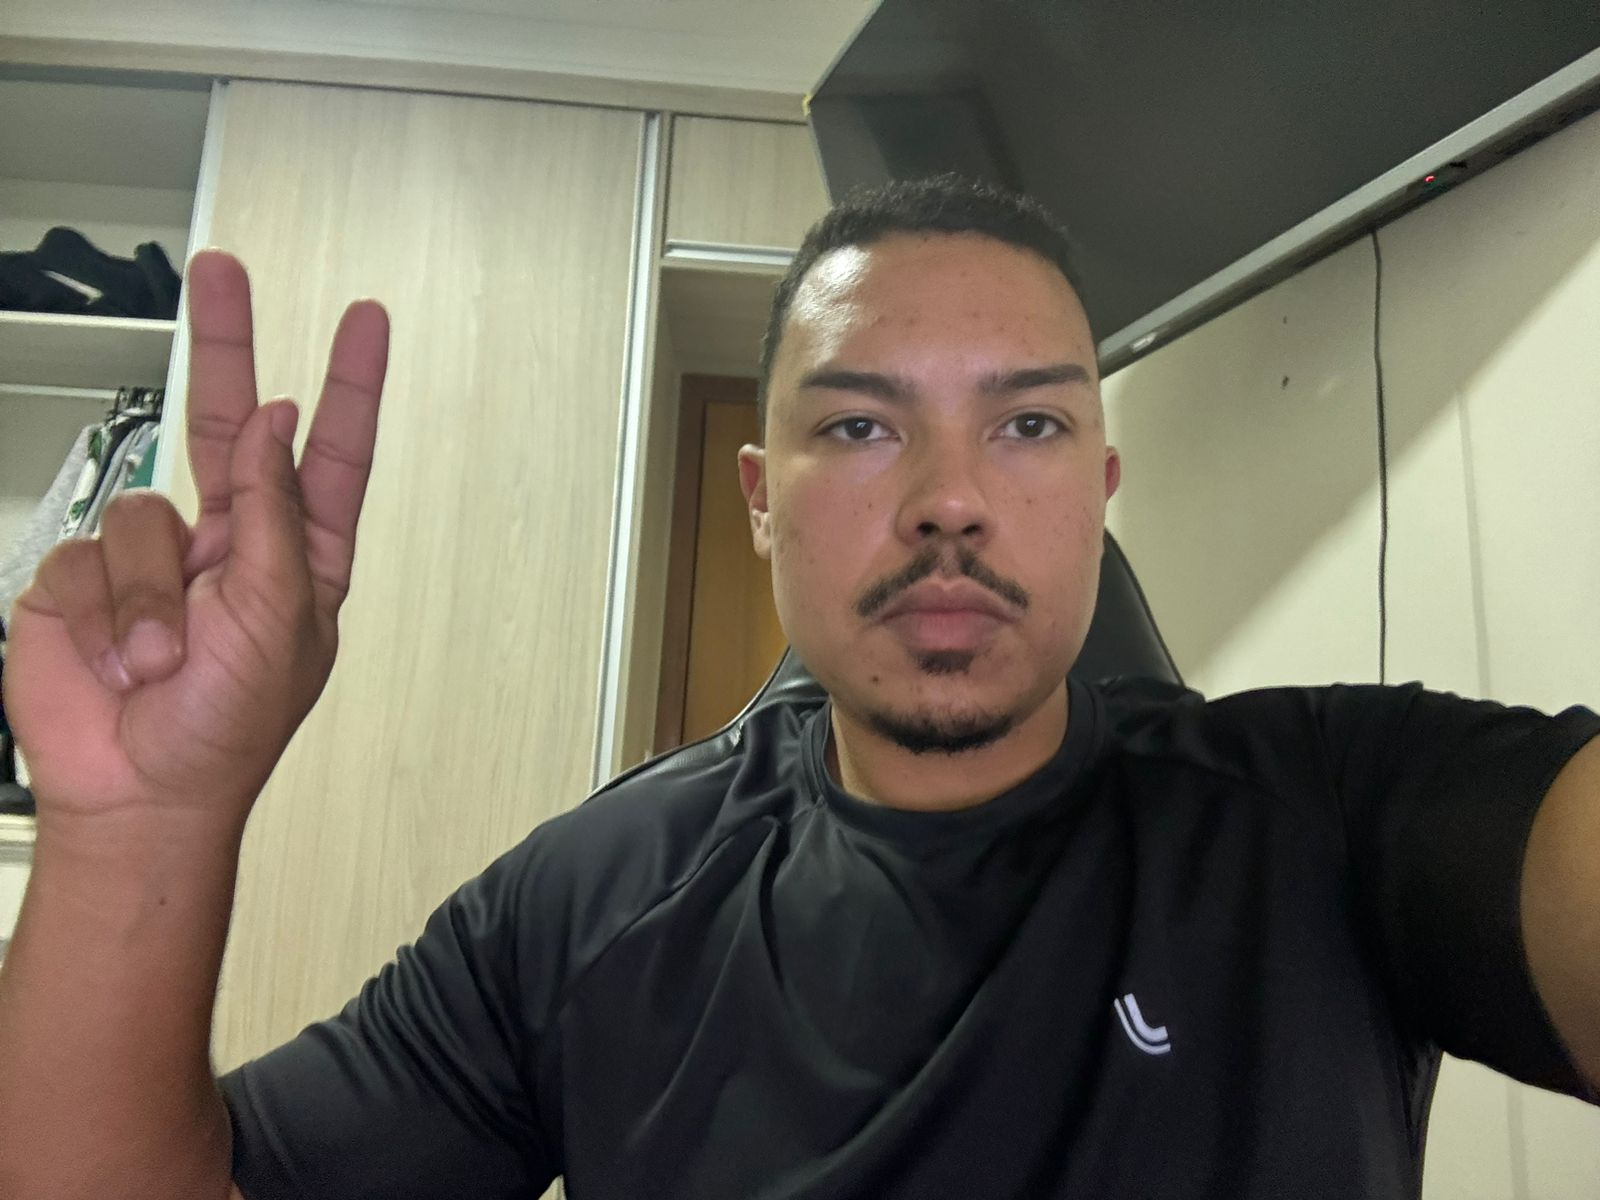k: (5, 247, 414, 879)
